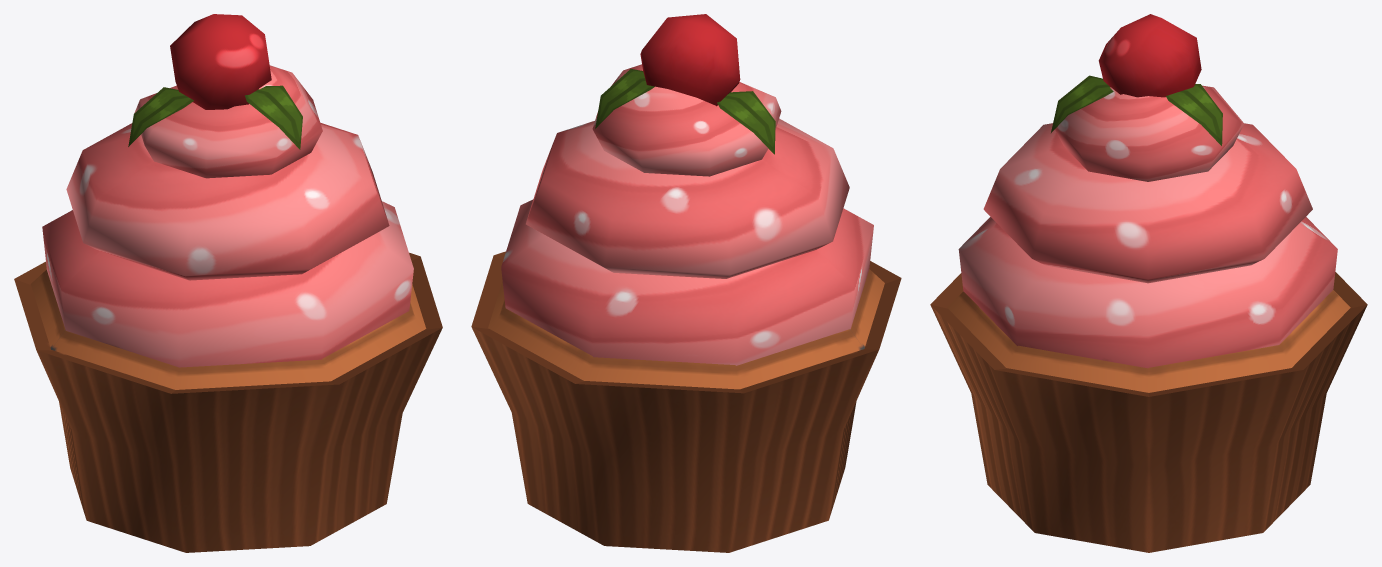
Rendered from cupcake-low-poly.fbx.
3 views of the same model, side by side, from view 1: azimuth 30°, elevation 25°; view 2: azimuth 150°, elevation 25°; view 3: azimuth 270°, elevation 25° (orthographic).
Visible parts, largest first — view 1: taco; view 2: taco; view 3: taco.
Boxes of the visible parts, x1,y1,x2,y2 form: taco: (14,14,442,552); taco: (471,14,901,552); taco: (930,14,1367,552).
Bounding box in the file's own units: 14.58 × 17.01 × 14.58.
Materials: 1 (1 with a texture image).
